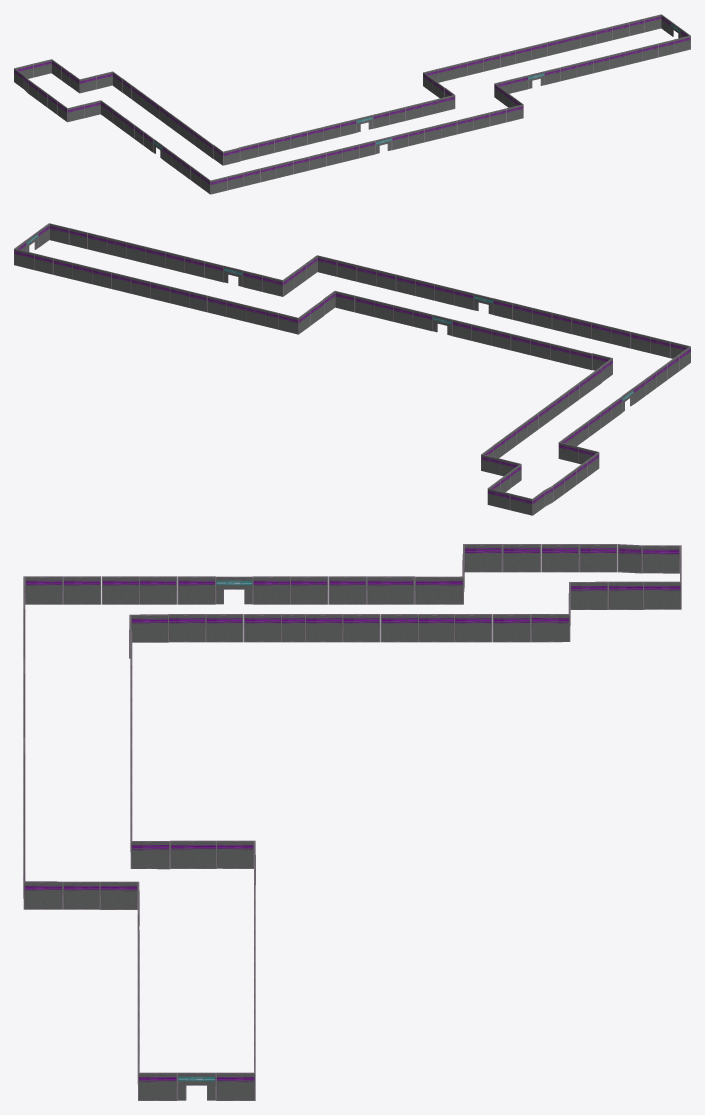
The model's file is Level Rebuild Main Hall Export.glb.
The picture shows the model from 3 angles, top to bottom: view 1: azimuth 30°, elevation 25°; view 2: azimuth 150°, elevation 25°; view 3: azimuth 270°, elevation 25°; orthographic projection. The views are drawn at different scales.
Parts seen in each view (by area): view 1: Cube.004; view 2: Cube.004; view 3: Cube.004.
Part boxes in pixels (box(x1,y1,x2,y2)): Cube.004: box(14, 14, 690, 194); Cube.004: box(14, 223, 690, 515); Cube.004: box(23, 544, 681, 1100).
Bounding box in the file's own units: 277 × 6.72 × 146.
Materials: 107 (107 with a texture image).
